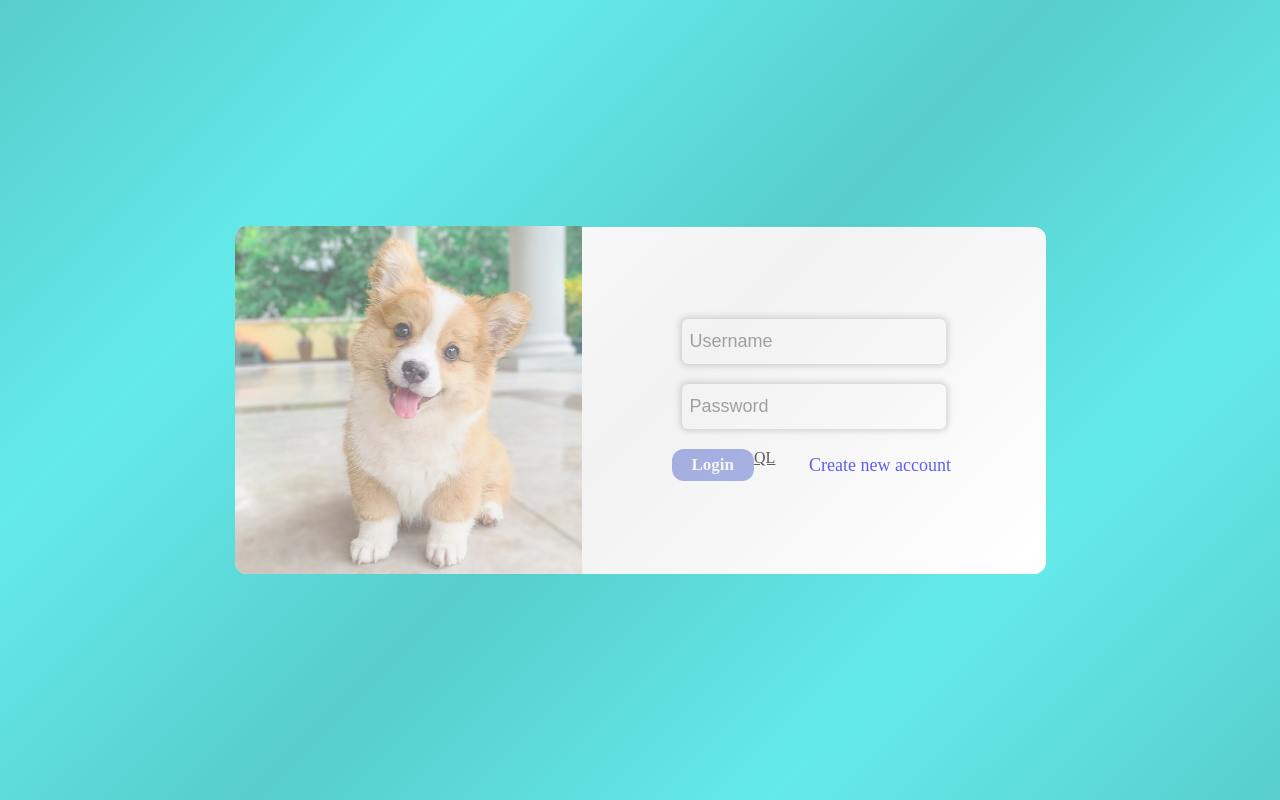
Test: UI of Login Form component › Create new account link should render account creation form elements
The image size is (1280, 800).
Click the link with aria-label "sign-up-link": (880, 465) x1=809 y1=449 x2=951 y2=481
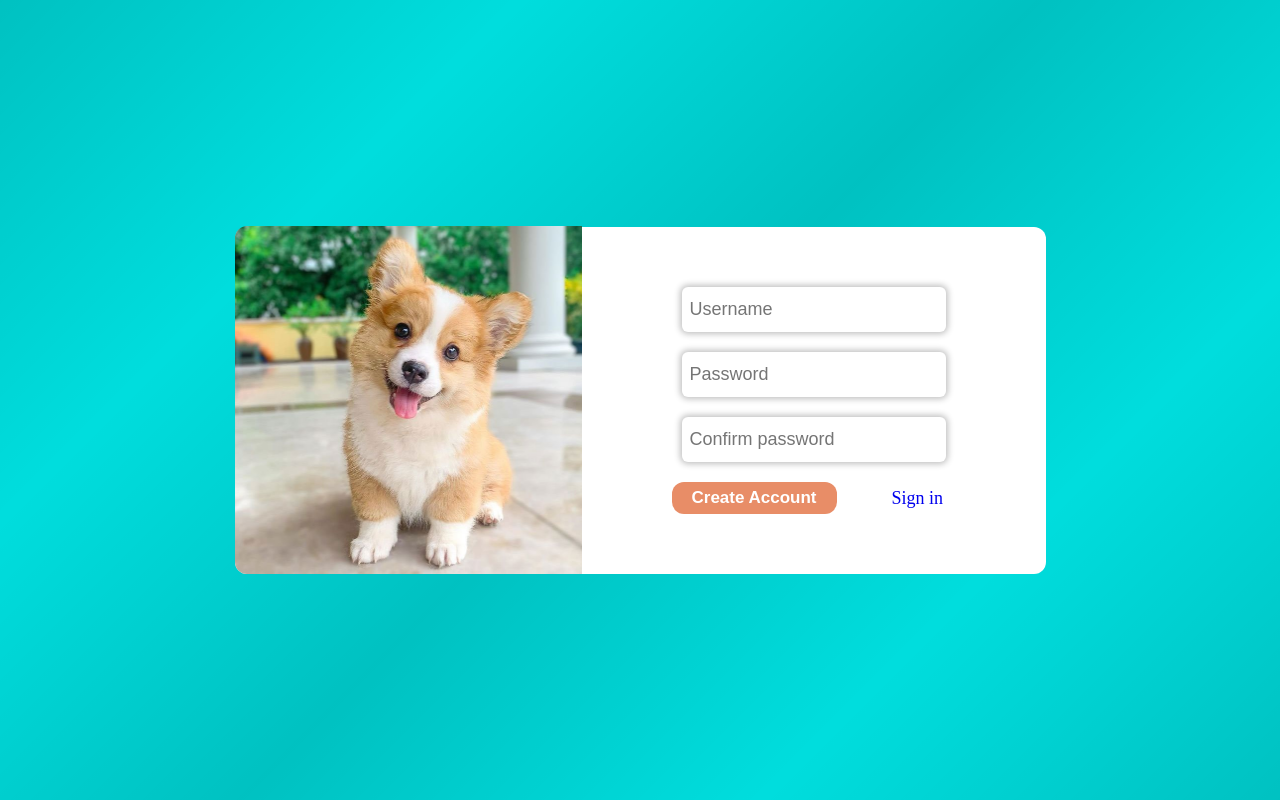
Now the link labelled "sign-up-link" is gone
Now the button with test id "create-account" is shown, box x1=672 y1=482 x2=836 y2=514
Now the password field named "confirm-password" is shown, box x1=682 y1=416 x2=946 y2=462
